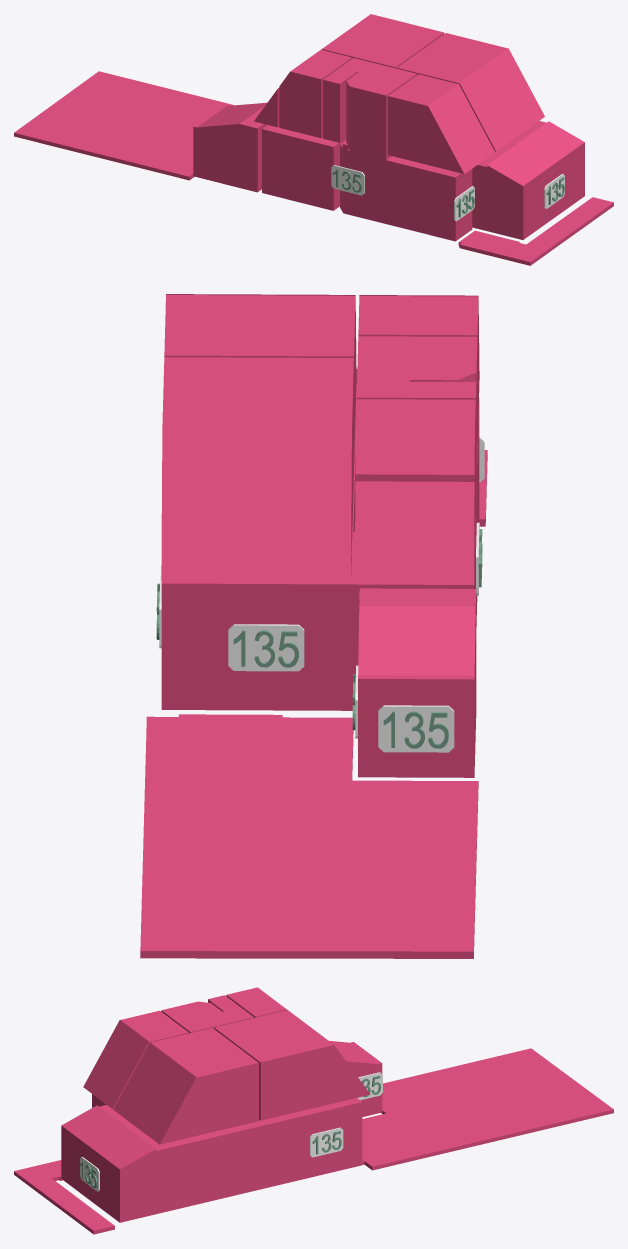
3 views of the same model, one above another, from view 1: azimuth 30°, elevation 25°; view 2: azimuth 150°, elevation 25°; view 3: azimuth 270°, elevation 25° (orthographic). The views are drawn at different scales.
Visible parts, largest first — view 1: g_15, g_1, g_8, g_9, g_4, g_0, g_5, g_7, g_6, g_11, g_2, g_10 (+6 smaller); view 2: g_15, g_7, g_0, g_5, g_8, g_12, g_6, g_10, g_9, g_19, g_11, g_43; view 3: g_15, g_1, g_8, g_7, g_0, g_9, g_14, g_5, g_10, g_6, g_13, g_11 (+3 smaller).
Boxes of the visible parts, x1,y1,x2,y2 form: g_15: (14, 71, 233, 180); g_1: (472, 121, 584, 239); g_8: (397, 33, 544, 151); g_9: (388, 74, 494, 173); g_4: (388, 156, 472, 241); g_0: (262, 125, 346, 210); g_5: (193, 102, 267, 192); g_7: (321, 14, 444, 68); g_6: (279, 49, 352, 138); g_11: (346, 72, 398, 154); g_2: (340, 140, 393, 224); g_10: (323, 58, 416, 142); g_15: (140, 714, 478, 958); g_7: (161, 357, 353, 581); g_0: (161, 514, 475, 710); g_5: (358, 588, 476, 777); g_8: (164, 294, 356, 465); g_12: (354, 481, 474, 581); g_6: (355, 399, 475, 549); g_10: (356, 336, 476, 513); g_9: (358, 295, 479, 451); g_19: (378, 705, 454, 752); g_11: (410, 336, 477, 489); g_43: (228, 624, 304, 671); g_15: (362, 1048, 613, 1170); g_1: (61, 1105, 289, 1222); g_8: (113, 1028, 258, 1144); g_7: (214, 1010, 370, 1120); g_0: (285, 1098, 362, 1182); g_9: (83, 1010, 188, 1108); g_14: (30, 1178, 114, 1234); g_5: (329, 1041, 382, 1116); g_10: (173, 995, 253, 1033); g_6: (226, 987, 286, 1017); g_13: (14, 1160, 62, 1186); g_11: (161, 1001, 222, 1020).
Size of the model in its own units: 15.96 by 5.36 by 22.15.
